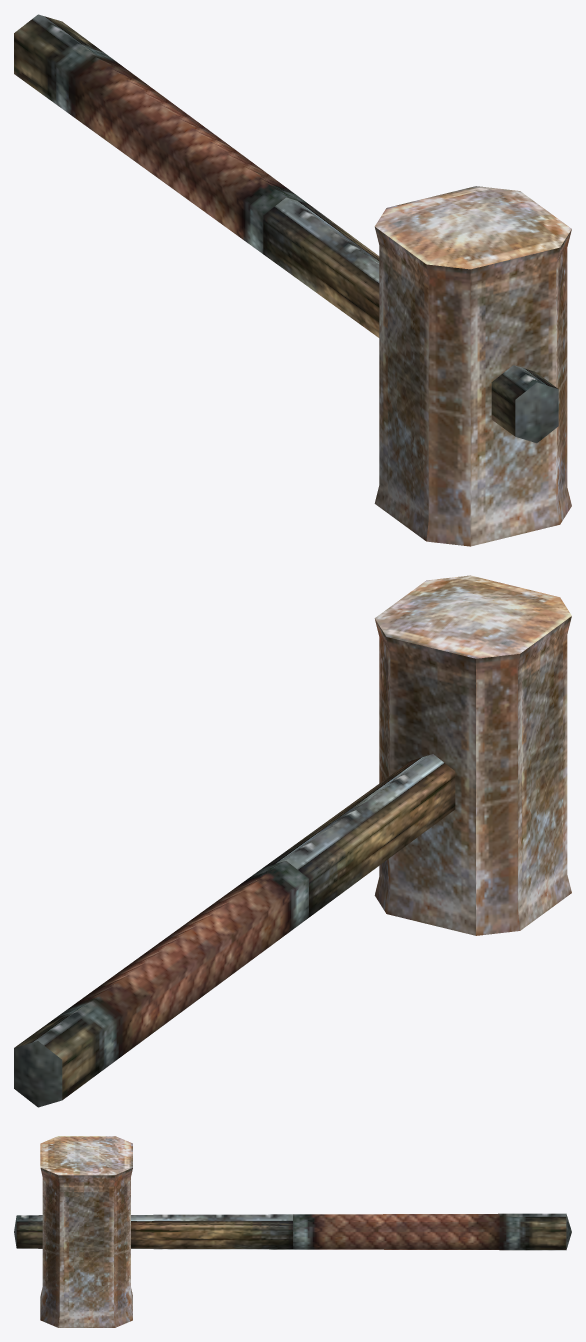
The model's file is waj16.glb.
The picture shows the model from 3 angles, top to bottom: view 1: azimuth 30°, elevation 25°; view 2: azimuth 150°, elevation 25°; view 3: azimuth 270°, elevation 25°; orthographic projection. The views are drawn at different scales.
Parts seen in each view (by area): view 1: waj16-col; view 2: waj16-col; view 3: waj16-col.
Part boxes in pixels (x1,y1,x2,y2): waj16-col: (14, 14, 571, 546); waj16-col: (14, 575, 571, 1107); waj16-col: (14, 1136, 571, 1327).
Size of the model in its own units: 0.1435 by 0.28 by 0.8644.
Materials: 1 (1 with a texture image).
